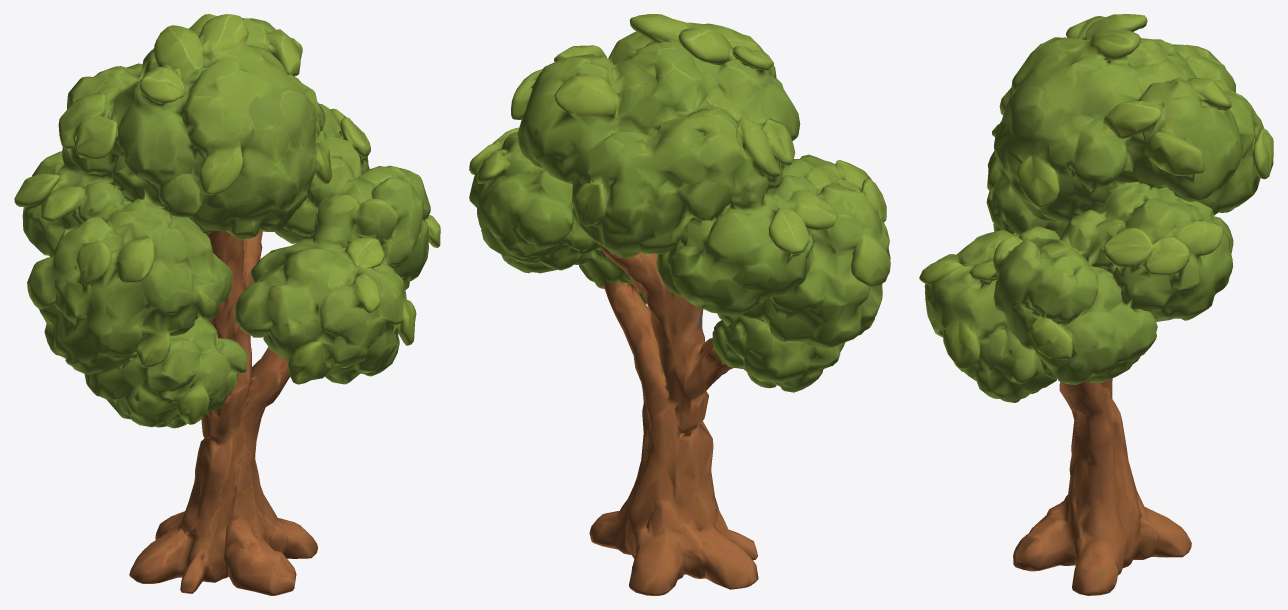
The model's file is tree-small.glb.
The picture shows the model from 3 angles, left to right: view 1: azimuth 30°, elevation 25°; view 2: azimuth 150°, elevation 25°; view 3: azimuth 270°, elevation 25°; orthographic projection. The views are drawn at different scales.
Bounding box in the file's own units: 1.46 × 1.9 × 1.16.
1 material, 1 textured.
